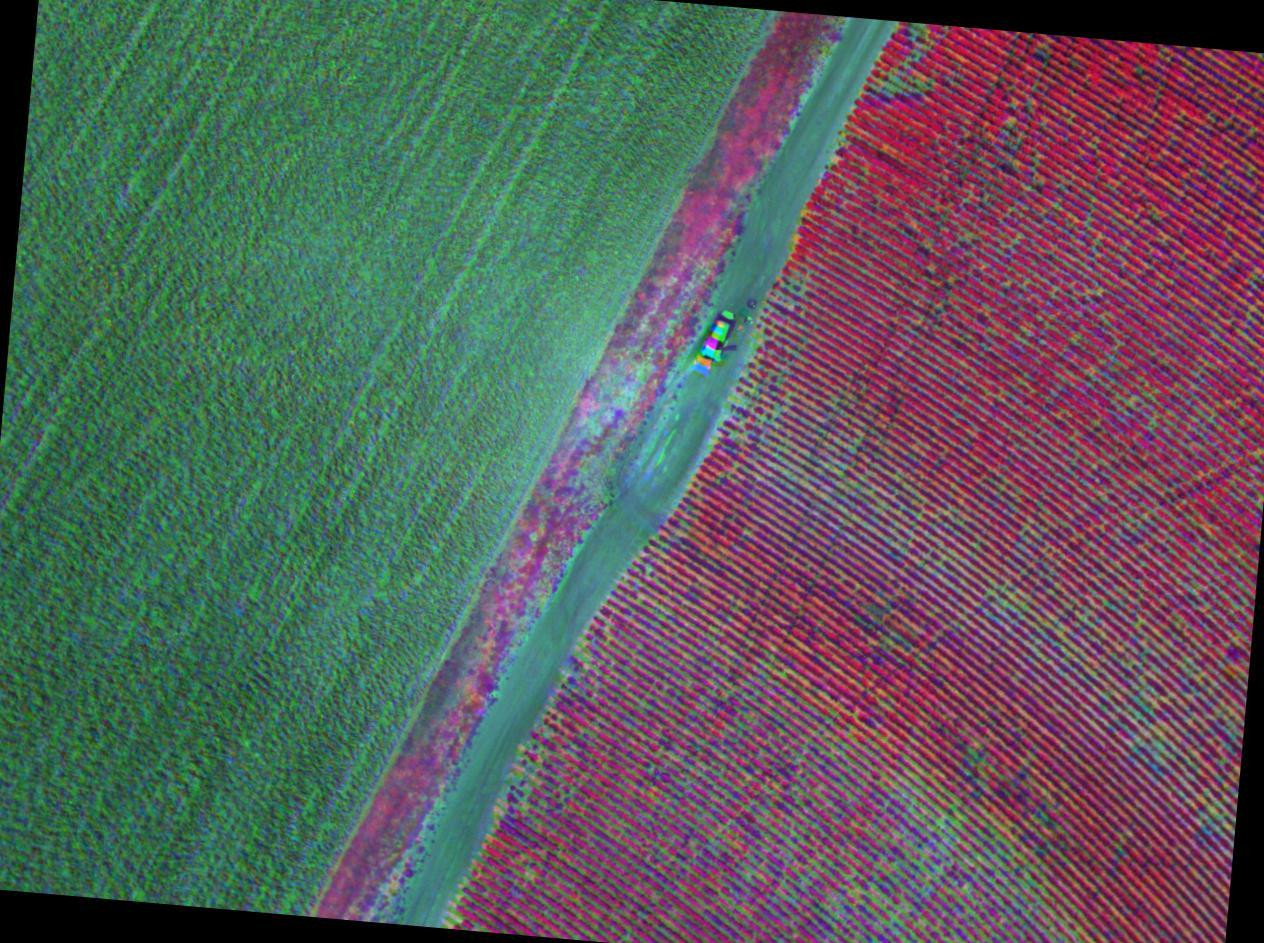dc: (528, 780, 534, 786), (450, 917, 456, 923), (774, 410, 779, 415), (938, 819, 943, 824), (759, 333, 763, 337), (1139, 619, 1143, 623), (582, 657, 586, 661), (1081, 617, 1085, 620), (889, 85, 892, 89)
